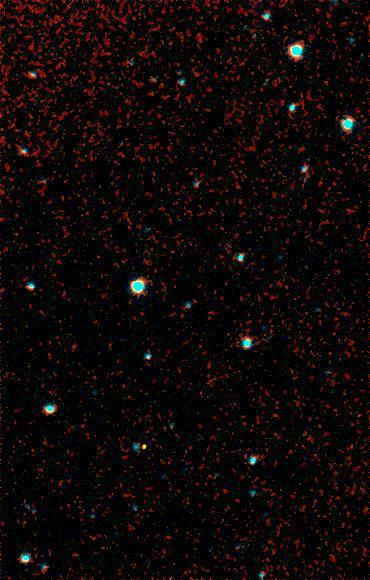star: (131, 430, 161, 460)
